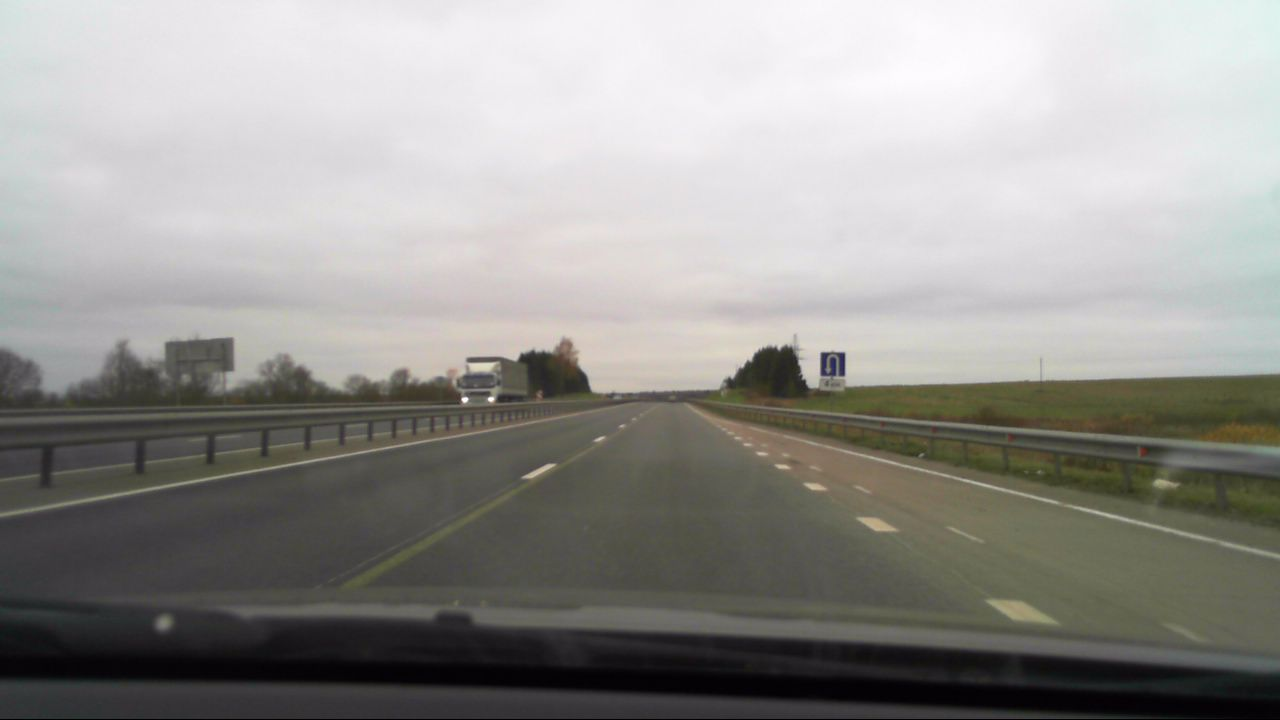U-turn: (821, 353, 845, 376)
